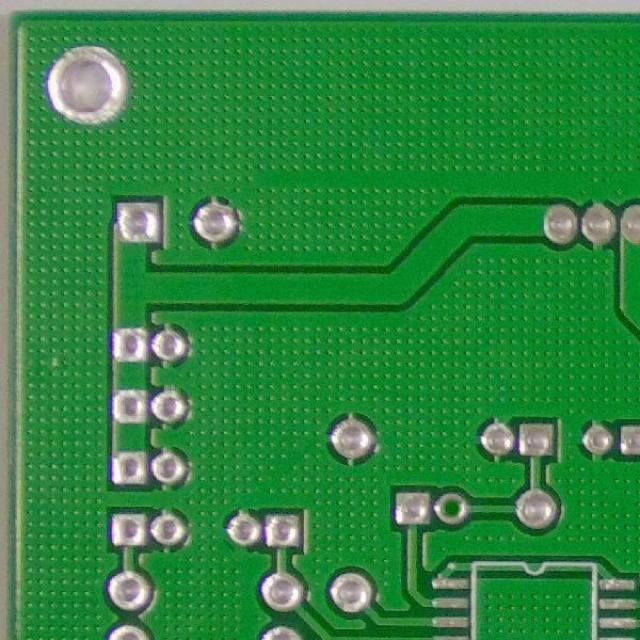missing_hole: (434, 485, 472, 526)
